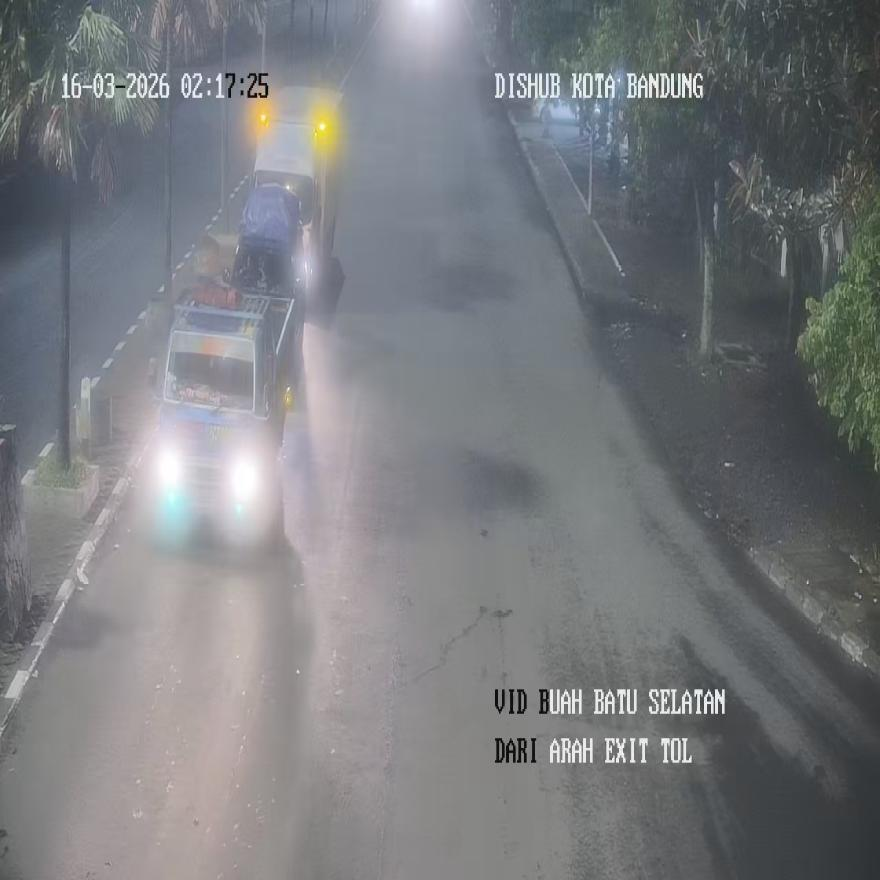Mobil: (148, 290, 300, 551)
Truk ringan: (250, 87, 342, 303)
